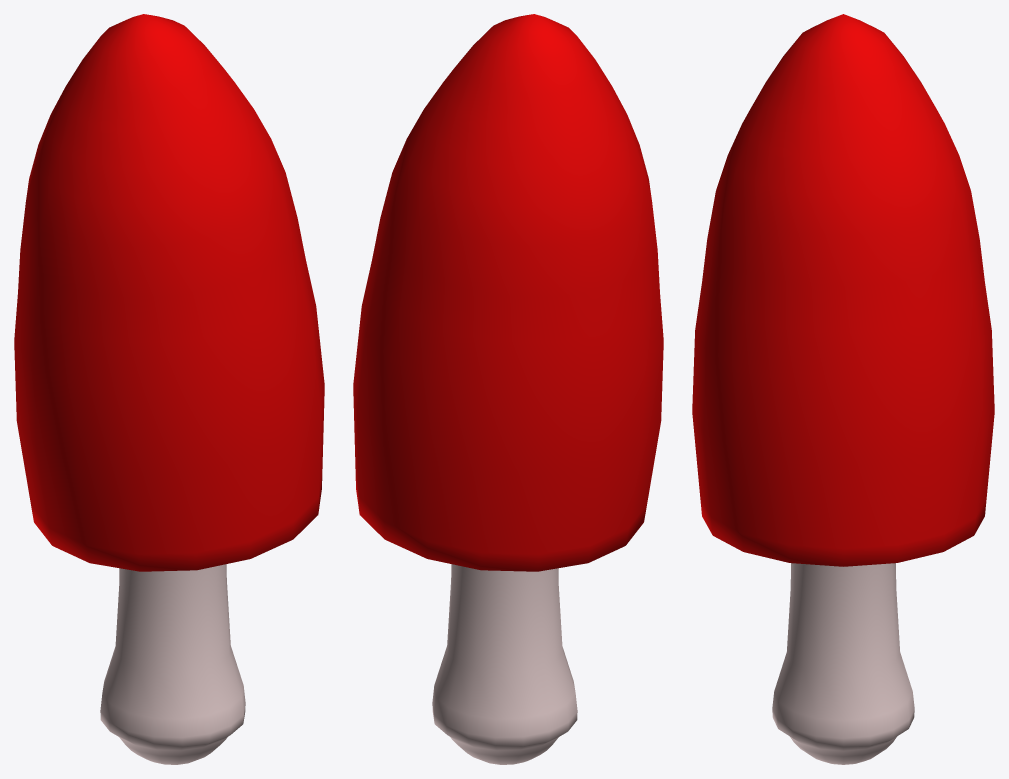
File: Mushroom_Julgran.fbx
The picture shows the model from 3 angles, left to right: view 1: azimuth 30°, elevation 25°; view 2: azimuth 150°, elevation 25°; view 3: azimuth 270°, elevation 25°; orthographic projection. The views are drawn at different scales.
Parts seen in each view (by area): view 1: Julgransvamp_Body; view 2: Julgransvamp_Body; view 3: Julgransvamp_Body.
Part boxes in pixels (x1,y1,x2,y2): Julgransvamp_Body: (14,14,324,764); Julgransvamp_Body: (353,14,663,764); Julgransvamp_Body: (692,14,994,764).
Bounding box in the file's own units: 521 × 517 × 1378.
